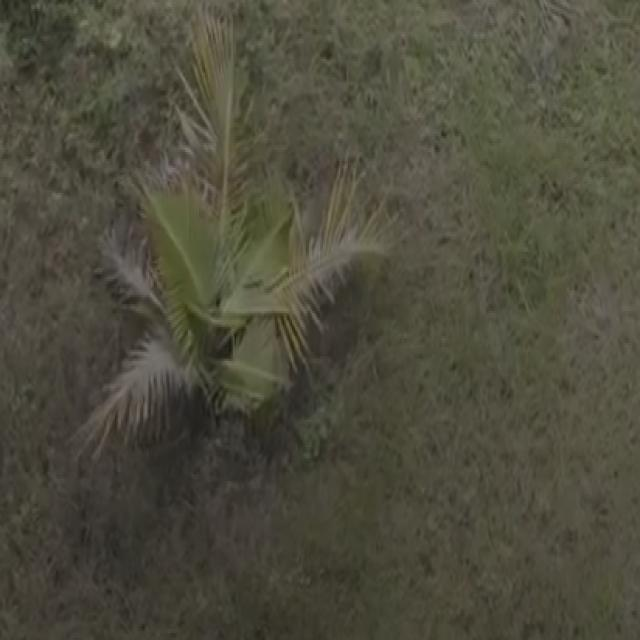notMangoTree: (62, 4, 396, 486)
